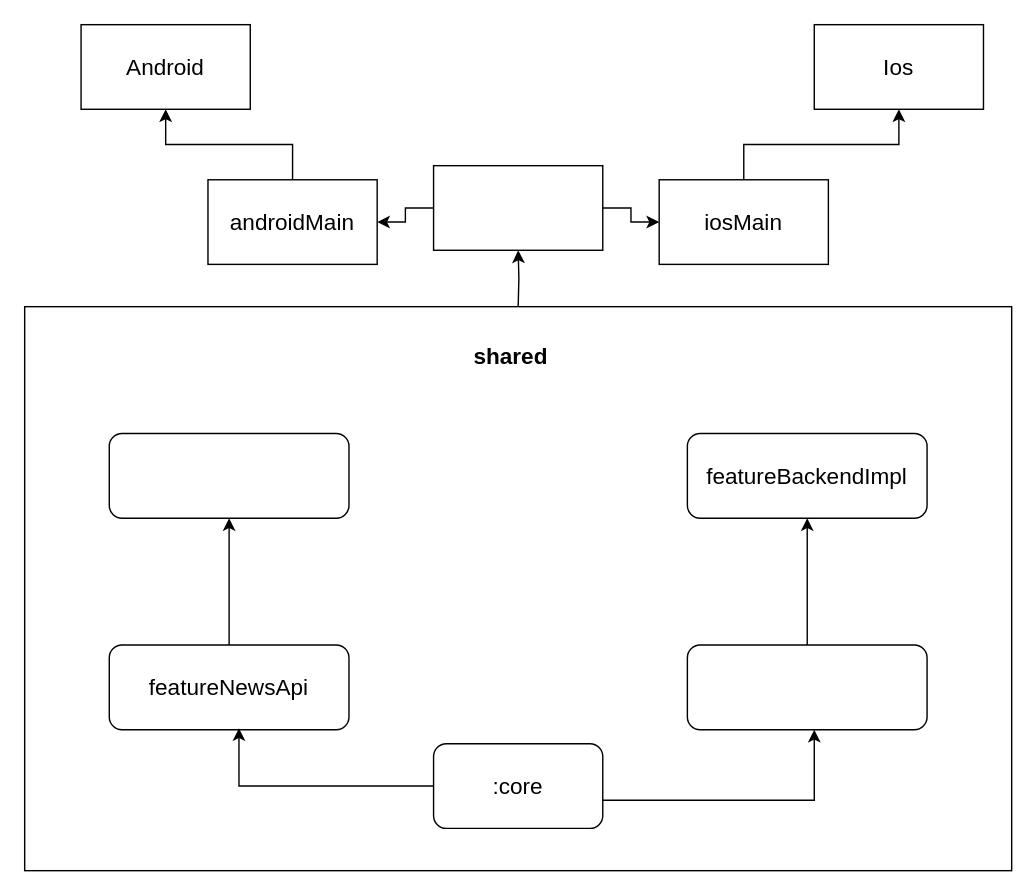
This 1036x895 diagram has some shape labels left out. The shapes that lost their labels are listed below. From the top down, each one's centre as x and y in pixels, then its label:
point 517,207: commonMain
point 228,475: featureNewsImpl
point 806,687: featureBackendApi
